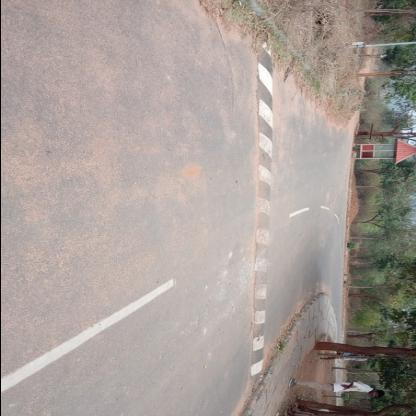speed-bumps: (245, 49, 280, 379)
